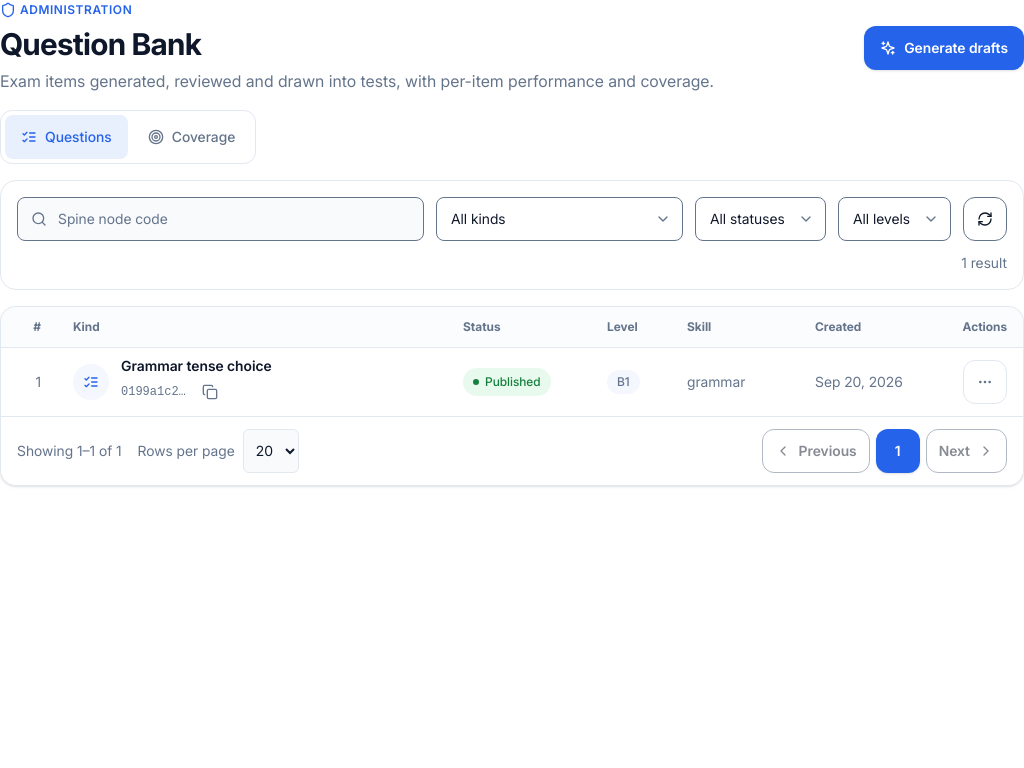
AdminQuestionBank › lists bank items and shows an item's empirical statistics
This screenshot has width=1024, height=768.
Click the button named "Actions for Grammar tense choice": (985, 382) x1=963 y1=360 x2=1007 y2=404
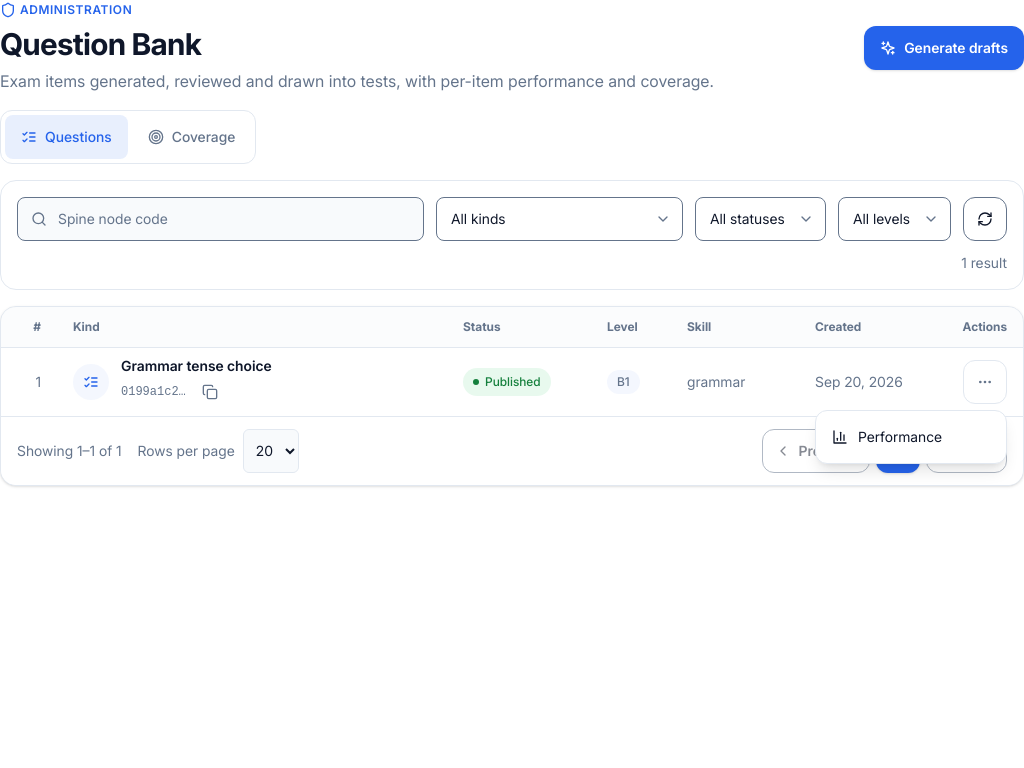
Click the menu item "Performance": (887, 436) x1=832 y1=428 x2=942 y2=445
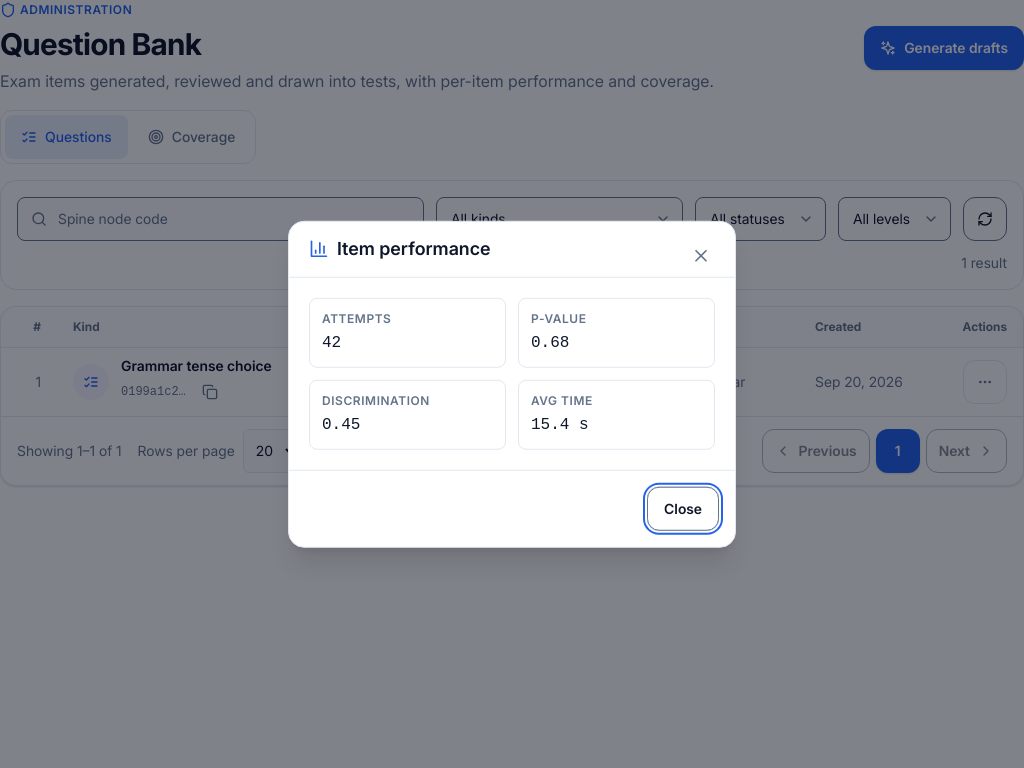
expect the text "0.68" is shown: met, box x1=531 y1=333 x2=569 y2=351
expect the text "0.45" is shown: met, box x1=322 y1=415 x2=360 y2=433
expect the text "42" is shown: met, box x1=322 y1=333 x2=341 y2=351
